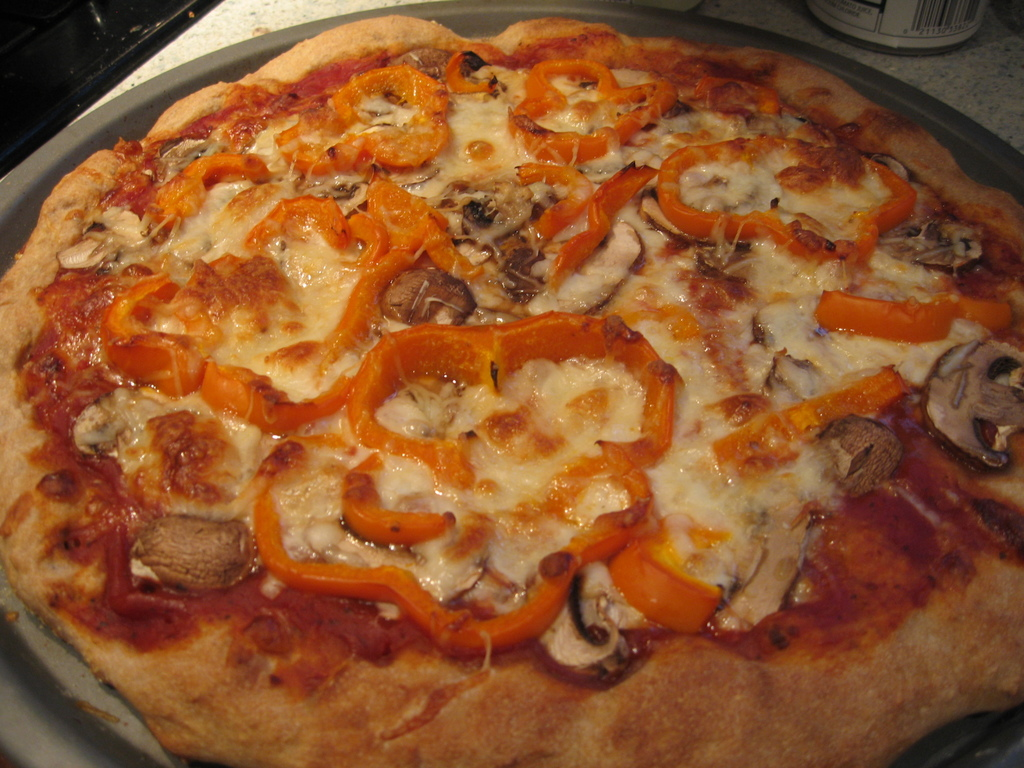Pizza: (0, 12, 1023, 767)
